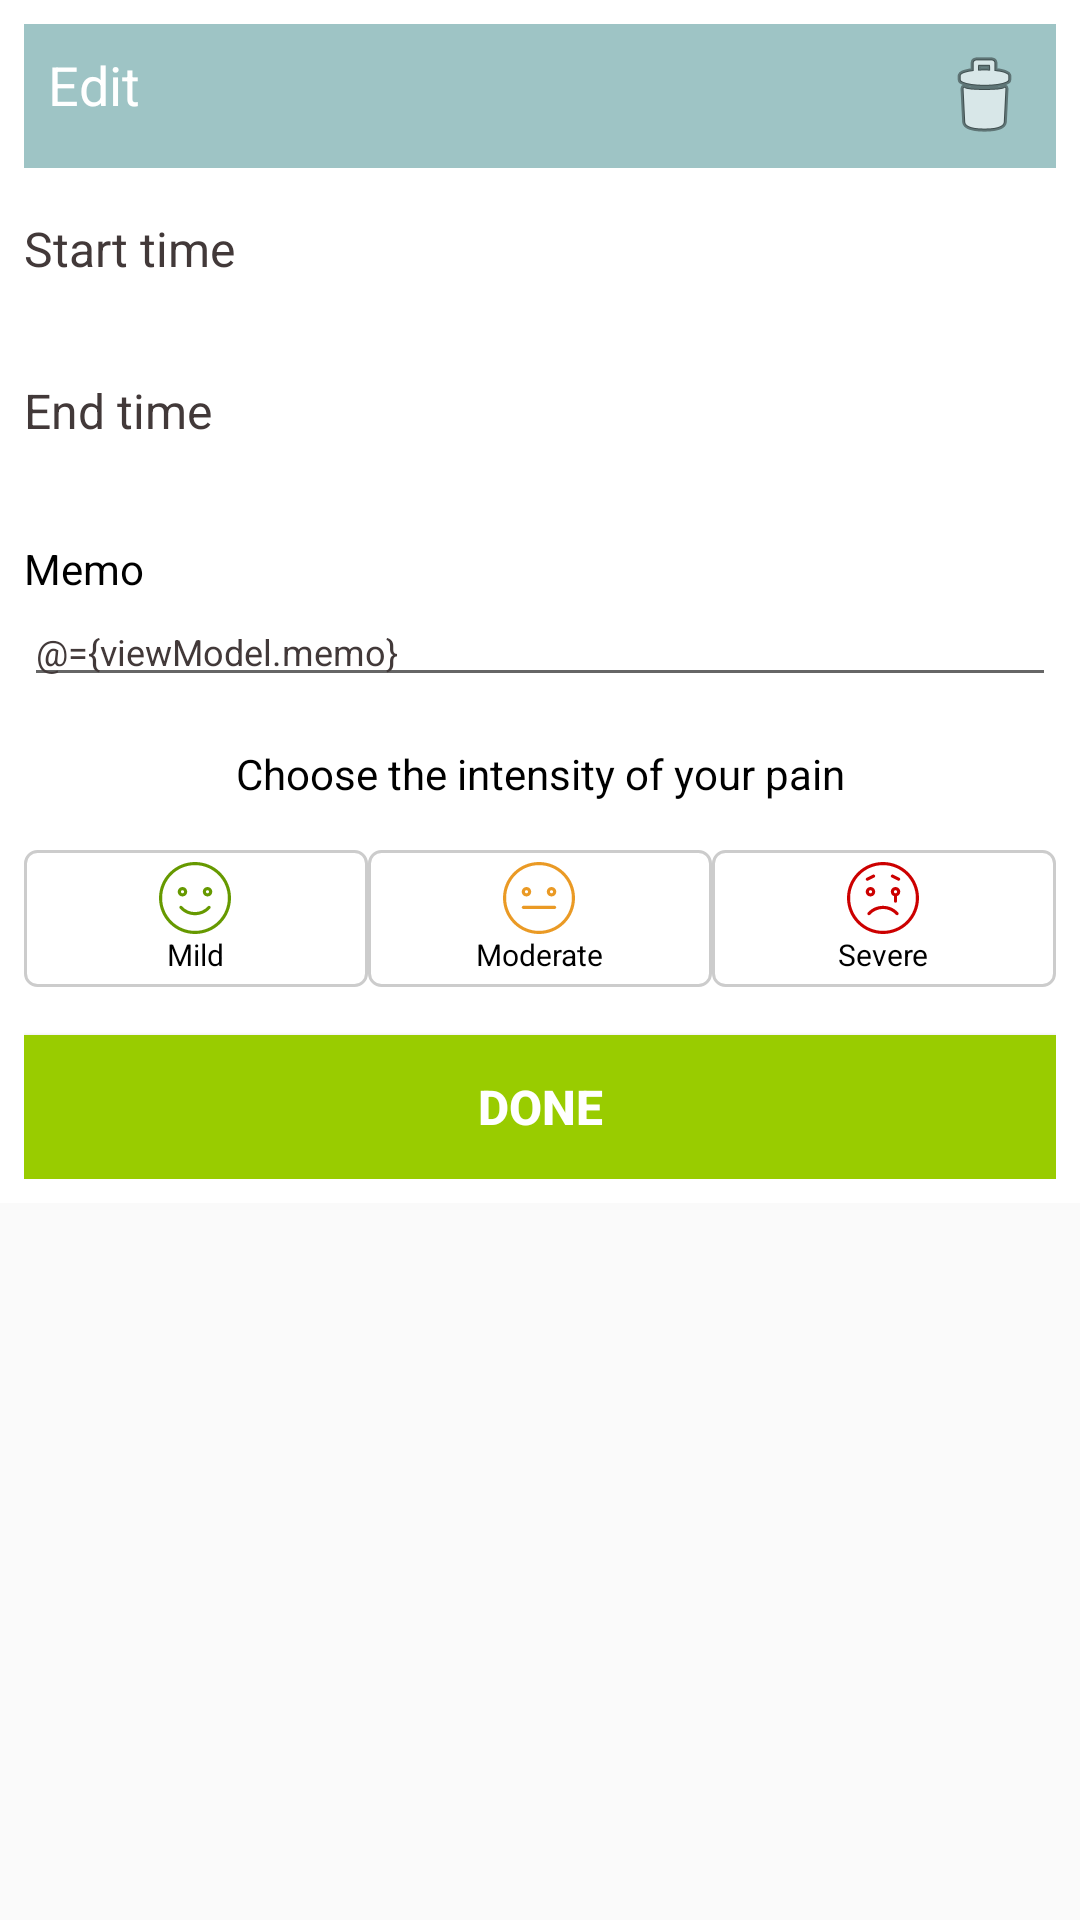

Icon click points for this 1080×1920 phone screenshot, format (x=x, y=y):
delete: (x=984, y=94)
